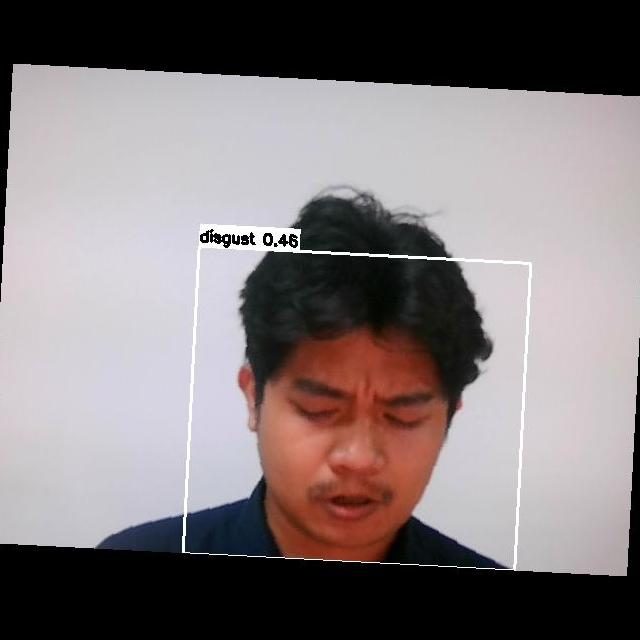Angry: (244, 348, 456, 537)
